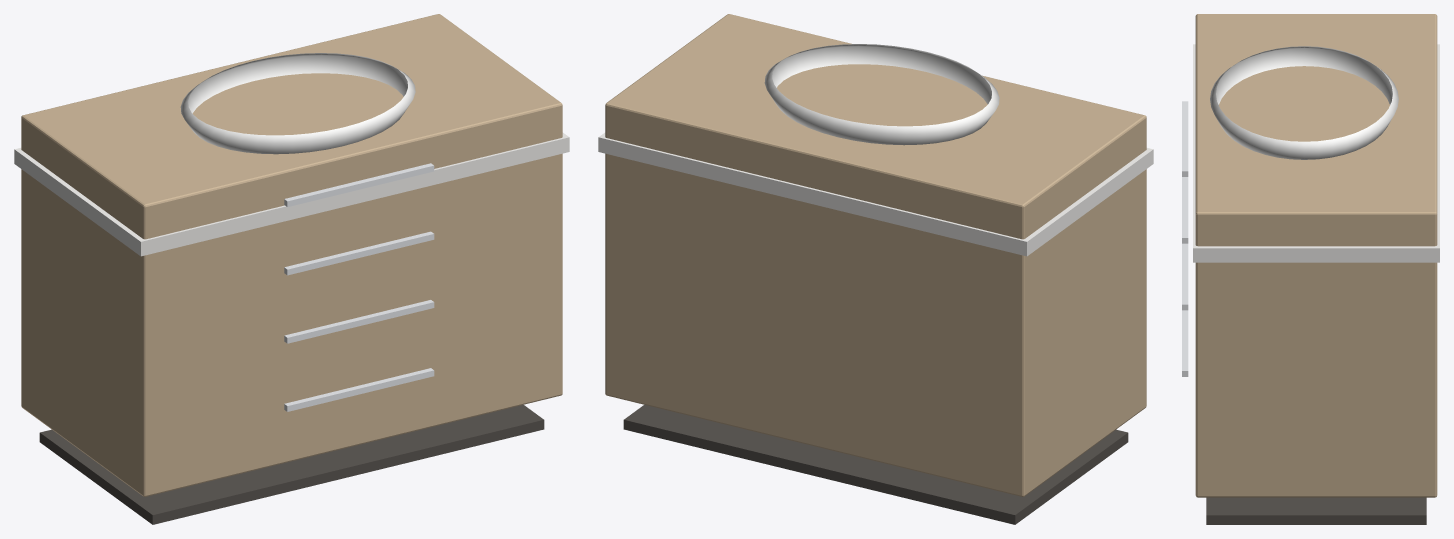
File: vanity-floating-4drawer.glb
The picture shows the model from 3 angles, left to right: view 1: azimuth 30°, elevation 25°; view 2: azimuth 150°, elevation 25°; view 3: azimuth 270°, elevation 25°; orthographic projection. The views are drawn at different scales.
Visible parts, largest first — view 1: body; view 2: body; view 3: body.
Boxes of the visible parts, x1,y1,x2,y2 form: body: (14, 14, 569, 524); body: (598, 14, 1153, 524); body: (1182, 14, 1439, 524).
Bounding box in the file's own units: 0.92 × 0.71 × 0.491.
